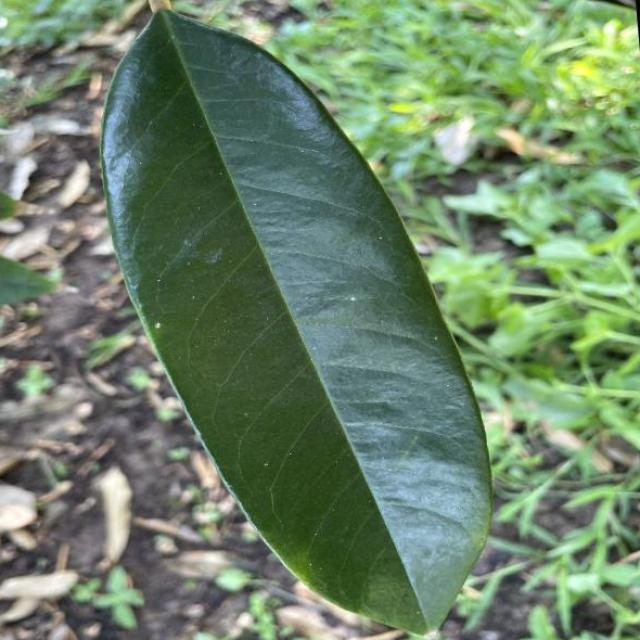No Disease: (82, 0, 516, 640)
